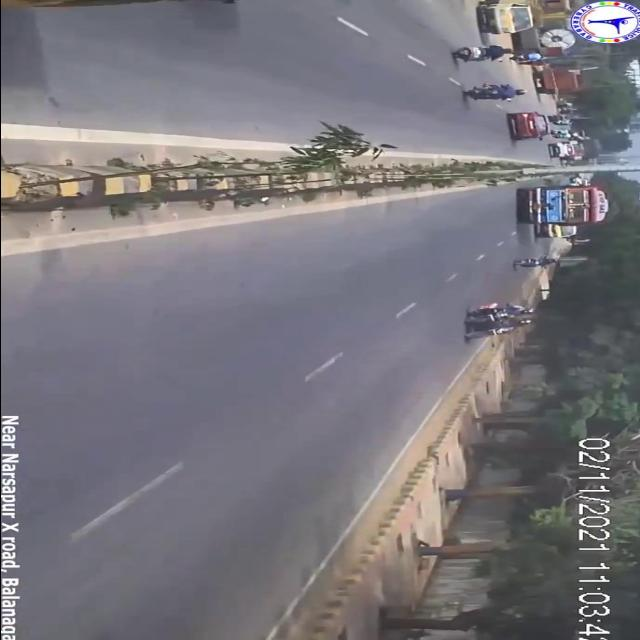accident: (452, 299, 540, 345)
non_accident: (512, 181, 610, 241), (537, 134, 611, 166)
